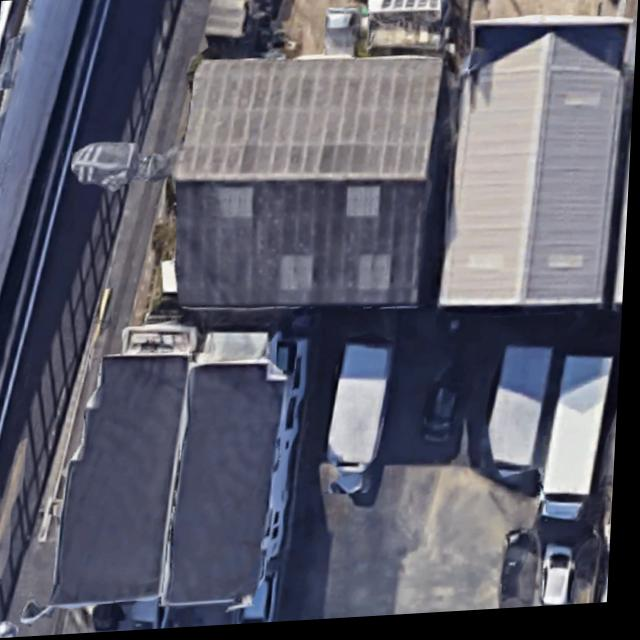Batiment: (58, 343, 310, 608), (176, 61, 442, 310), (442, 31, 627, 311)
